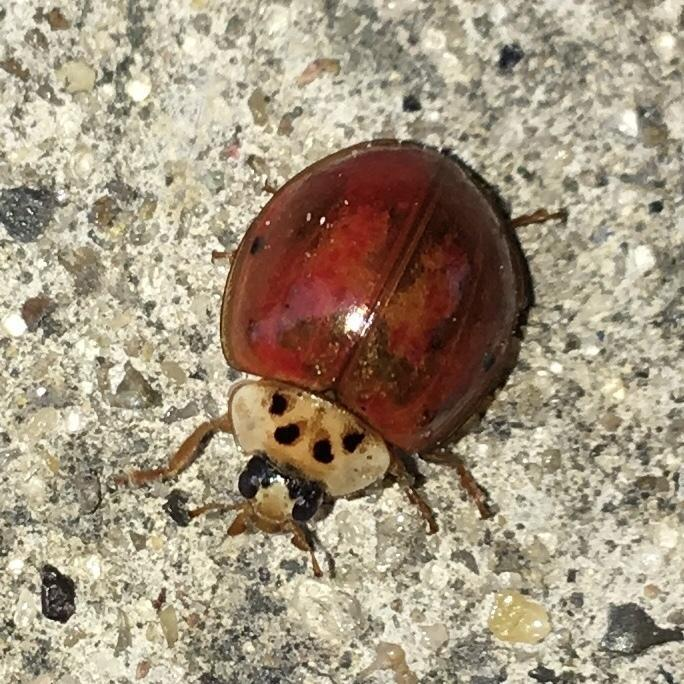ladybug: (125, 133, 577, 587)
